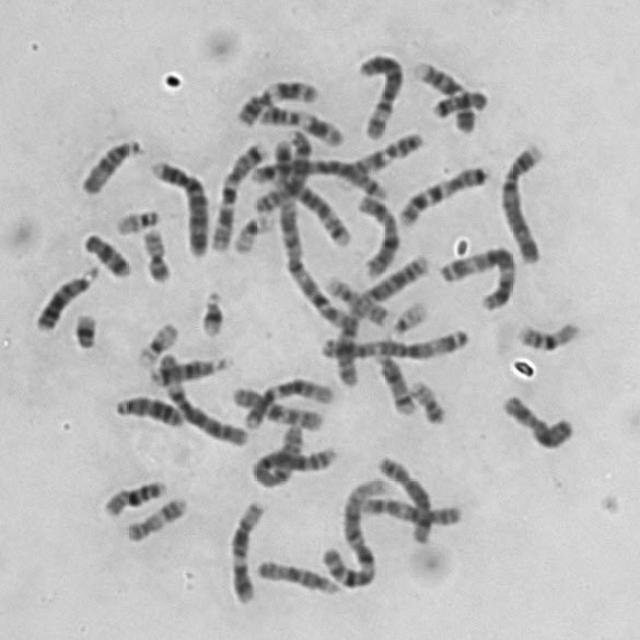A1: (266, 141, 353, 330), (314, 468, 393, 590)
A2: (327, 246, 431, 387), (245, 420, 339, 490)
A3: (314, 319, 472, 362), (433, 237, 519, 312)
B4: (143, 150, 211, 258), (494, 134, 548, 264)
B5: (248, 152, 354, 248), (246, 150, 392, 204)
C10: (227, 377, 328, 431), (353, 489, 465, 527)
C11: (228, 70, 322, 128), (252, 95, 348, 149)
C12: (235, 371, 336, 428), (221, 492, 267, 606)
C6: (152, 344, 252, 448), (350, 44, 406, 141)
C7: (204, 132, 270, 253), (391, 156, 491, 228)
C8: (247, 121, 314, 215), (371, 447, 435, 545)
C9: (407, 52, 479, 134), (336, 124, 427, 181)
D13: (27, 258, 100, 334), (107, 386, 186, 430)
D14: (368, 344, 418, 416), (143, 348, 233, 387)
D15: (72, 130, 144, 197), (250, 550, 342, 596)
E16: (95, 471, 169, 518), (509, 312, 584, 353)
E17: (317, 267, 393, 328), (117, 488, 190, 544)
E18: (75, 224, 134, 278), (424, 82, 490, 120)
F19: (129, 313, 182, 368), (227, 206, 276, 255)
F20: (135, 220, 174, 284), (402, 372, 448, 426)
G21: (192, 281, 228, 339), (66, 304, 100, 350)
G22: (384, 291, 432, 337), (108, 200, 162, 235)
X: (494, 385, 578, 451), (349, 187, 401, 278)
